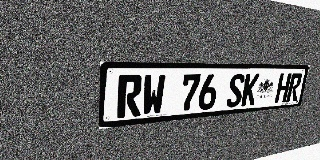6: (198, 74, 219, 110)
7: (179, 74, 201, 112)
H: (274, 73, 292, 103)
K: (241, 74, 260, 106)
R: (117, 75, 143, 118), (286, 73, 303, 102)
S: (226, 74, 246, 108)
W: (141, 74, 166, 116)
